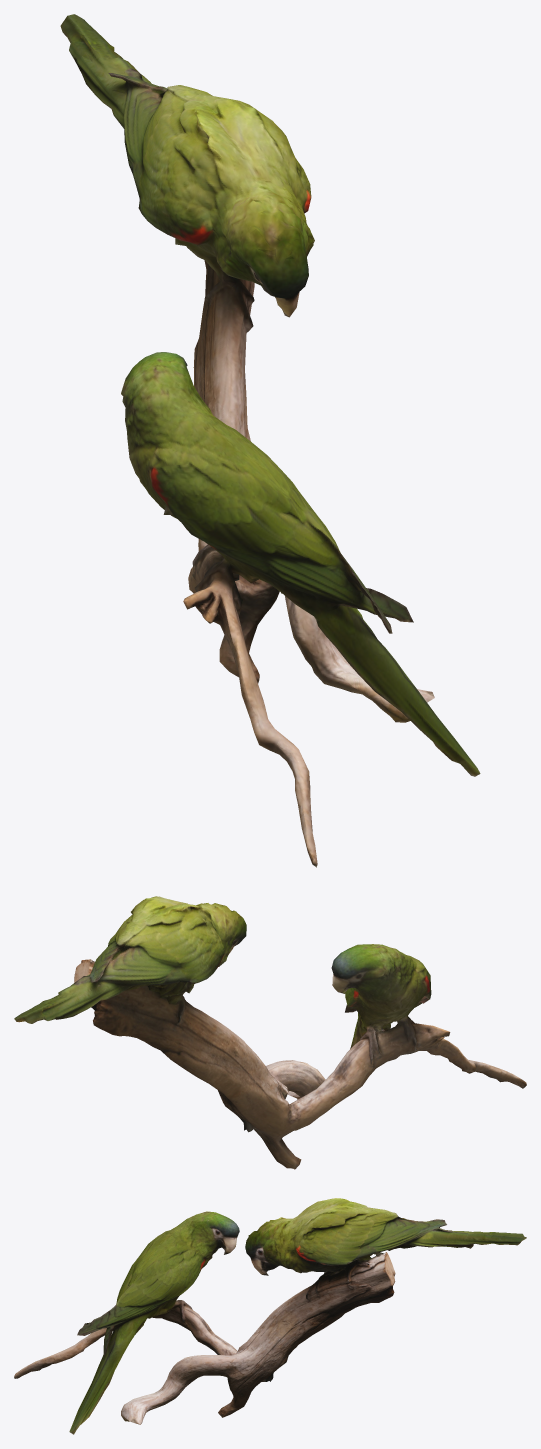
Rendered from parrot.glb.
3 views of the same model, one above another, from view 1: azimuth 30°, elevation 25°; view 2: azimuth 150°, elevation 25°; view 3: azimuth 270°, elevation 25° (orthographic). The views are drawn at different scales.
Visible parts, largest first — view 1: Object_2; view 2: Object_2; view 3: Object_2.
Boxes of the visible parts, left/top/right/bottom form: Object_2: left=60, top=14, right=480, bottom=867; Object_2: left=14, top=896, right=526, bottom=1169; Object_2: left=14, top=1198, right=526, bottom=1434.
Size of the model in its own units: 17.04 by 23.38 by 46.26.
1 material, 1 textured.
